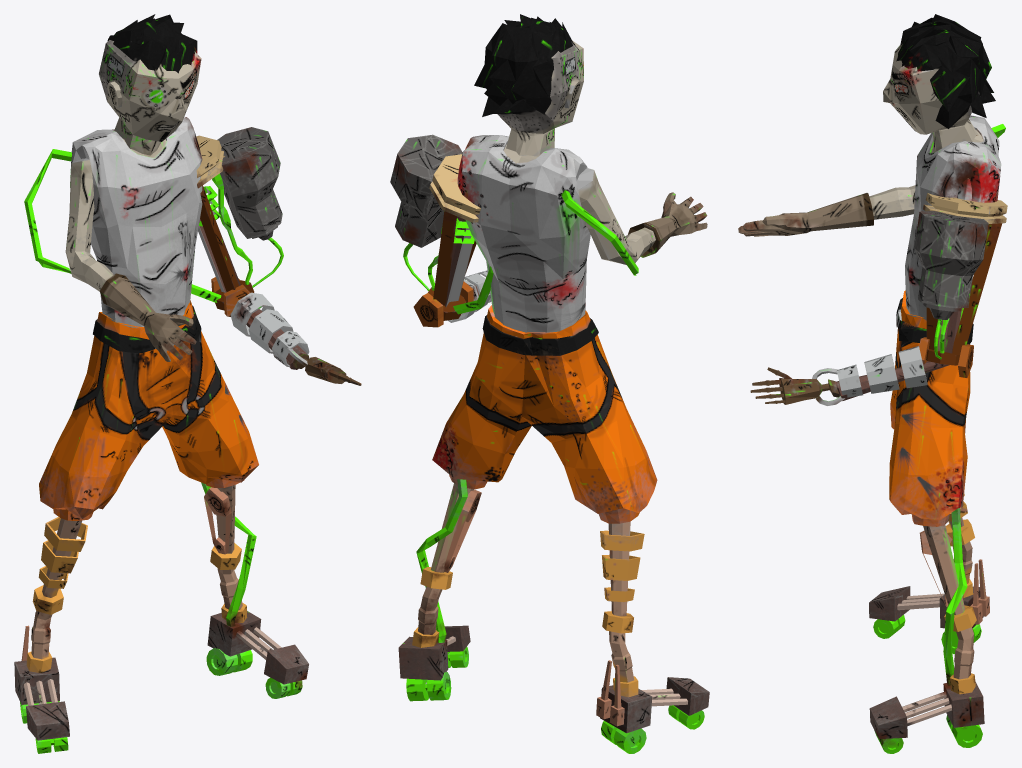
The model's file is CyborgFINALAnimation_000028.obj.
3 renders of one model, left to right at view 1: azimuth 30°, elevation 25°; view 2: azimuth 150°, elevation 25°; view 3: azimuth 270°, elevation 25°, orthographic. The views are drawn at different scales.
Parts seen in each view (by area): view 1: CyborgMesh_Cube.002; view 2: CyborgMesh_Cube.002; view 3: CyborgMesh_Cube.002.
Boxes of the visible parts, x1=… form: CyborgMesh_Cube.002: x1=14, y1=14, x2=361, y2=753; CyborgMesh_Cube.002: x1=390, y1=14, x2=709, y2=753; CyborgMesh_Cube.002: x1=738, y1=14, x2=1007, y2=753.
Size of the model in its own units: 4.03 by 9.64 by 3.47.
